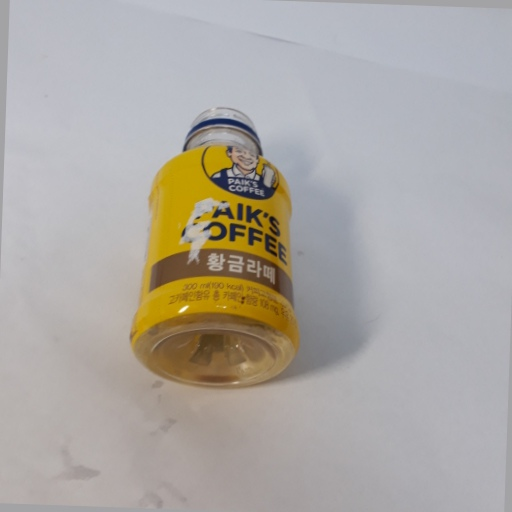Plastic_0: (131, 101, 304, 389)
